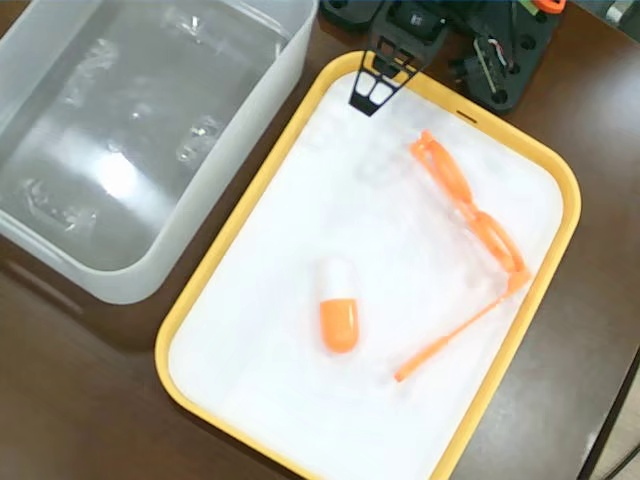pill: (309, 248, 364, 354)
